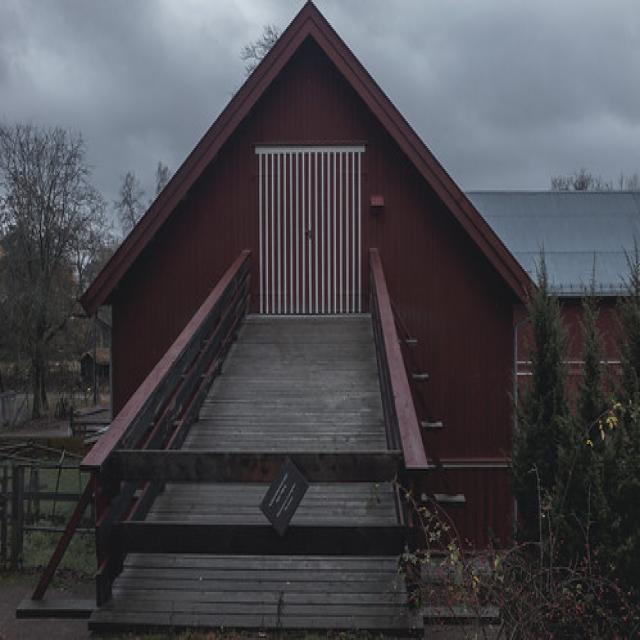Normal_building: (78, 7, 538, 629)
